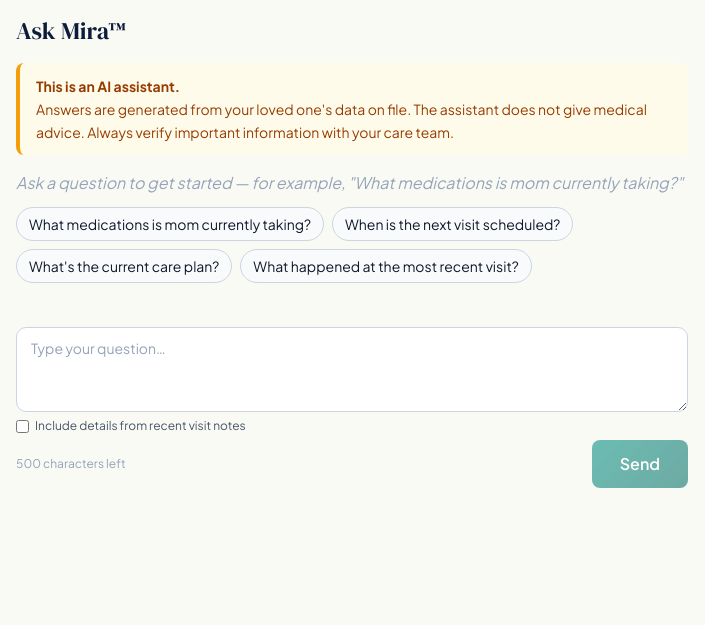
Test: FamilyChat (streaming) › renders follow-up chips when the done event includes followUps
In the text box with test id "family-chat-input": (352, 370) [16,327,688,412], type "meds?"
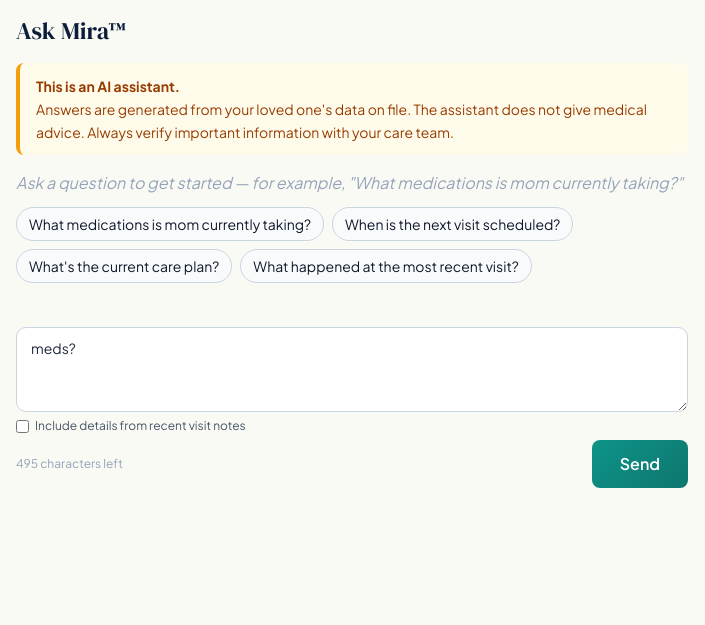
Click the button with test id "family-chat-submit": (640, 464) [592,440,688,488]
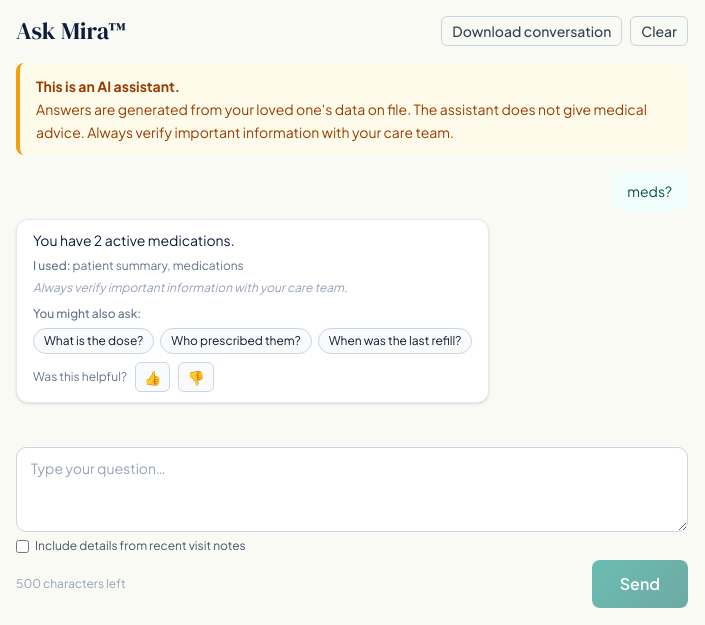
Expected: the element with test id "follow-ups" is shown, [33,306,472,354]
Expected: the number of buttons with test id "follow-up-chip" is 3, [33,328,154,354]; [160,328,312,354]; [318,328,472,354]
Expected: the button with test id "follow-up-chip" reads "What is the dose?", [33,328,154,354]
